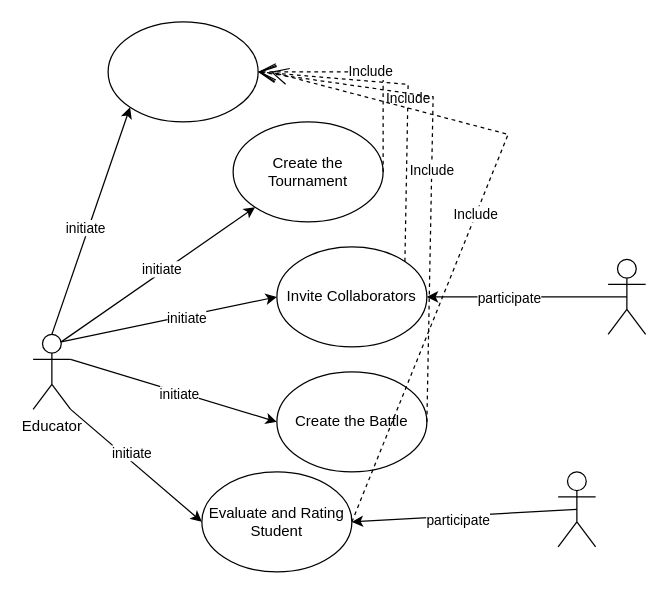
Some shapes in this 668 by 595 pixel diagram are drawn without their labels. Each missing label, with the centre of its shape:
"Github API" goes at (x=576, y=509).
"Gmail" goes at (x=626, y=296).
"Login" goes at (x=182, y=71).
